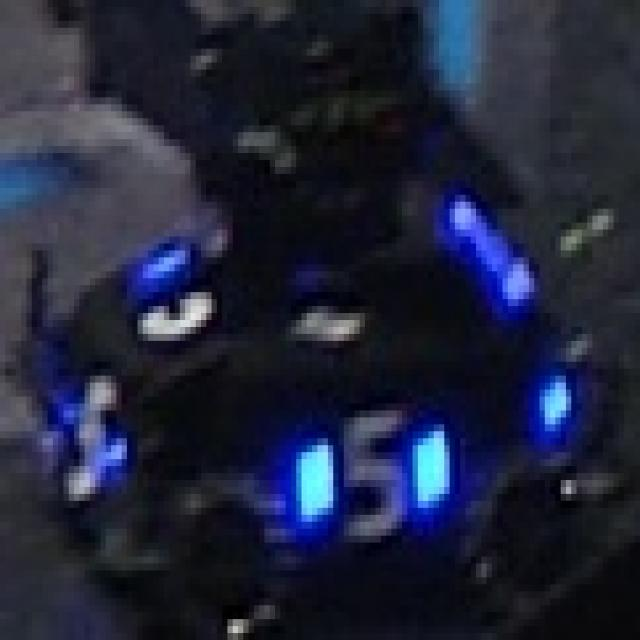B5: (296, 410, 455, 536), (53, 369, 132, 501)
